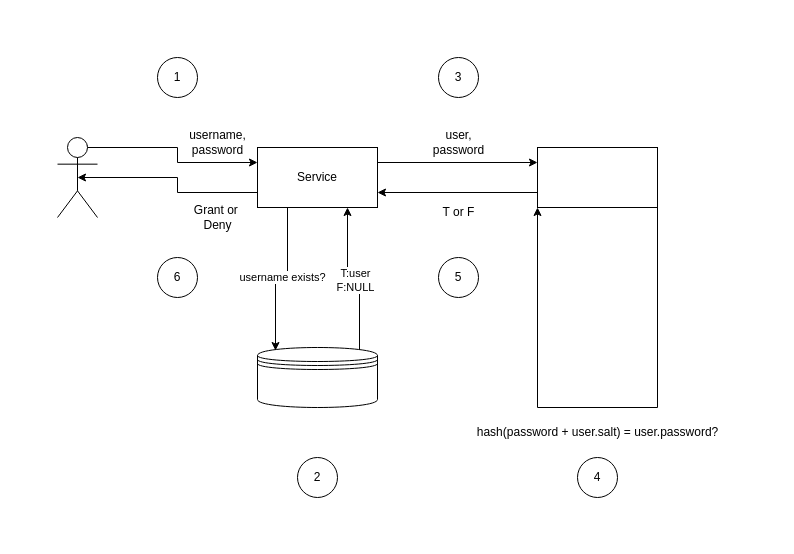
This 794x554 diagram has some shape labels left out. The shapes that lost their labels are listed below. From the top down, each one's centre as x and y in pixels, then its label:
[77,177]: User
[597,177]: Verifier
